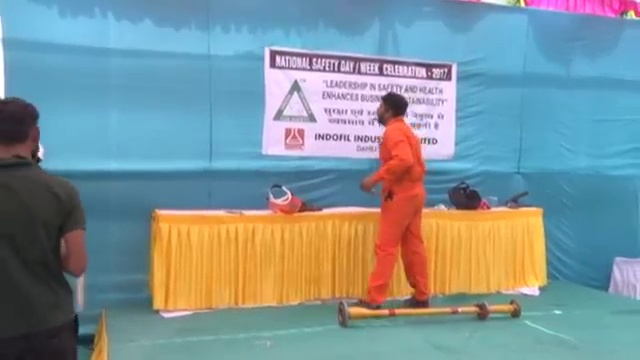helmet_off: (1, 94, 44, 169), (375, 93, 407, 124)
person: (1, 92, 94, 358), (360, 93, 434, 308)
